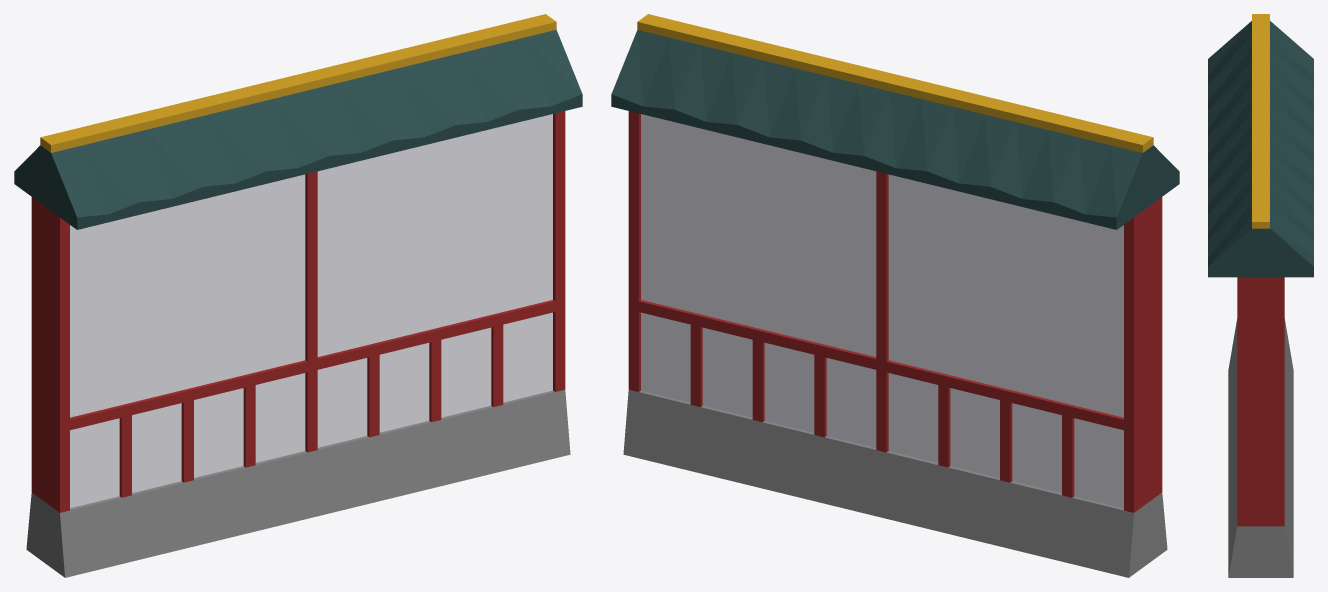
Rendered from Asian_Prop_Building_Fence_Wall_Framed_04.FBX.
The picture shows the model from 3 angles, left to right: view 1: azimuth 30°, elevation 25°; view 2: azimuth 150°, elevation 25°; view 3: azimuth 270°, elevation 25°; orthographic projection. The views are drawn at different scales.
Visible parts, largest first — view 1: Asian_Prop_Building_Fence_Wall_Framed_04; view 2: Asian_Prop_Building_Fence_Wall_Framed_04; view 3: Asian_Prop_Building_Fence_Wall_Framed_04.
Part boxes in pixels (bbox=[...]): Asian_Prop_Building_Fence_Wall_Framed_04: bbox=[14, 14, 582, 577]; Asian_Prop_Building_Fence_Wall_Framed_04: bbox=[611, 14, 1179, 577]; Asian_Prop_Building_Fence_Wall_Framed_04: bbox=[1208, 14, 1313, 577].
Bounding box in the file's own units: 5167 × 4128 × 1112.
